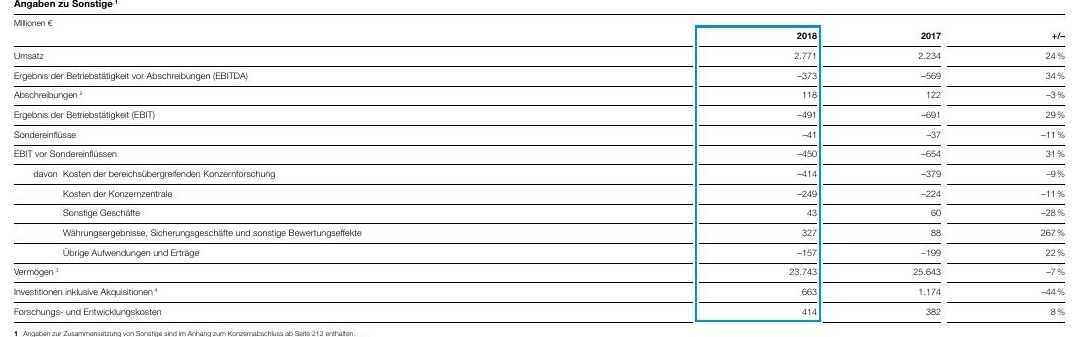table: (0, 0, 1077, 337)
